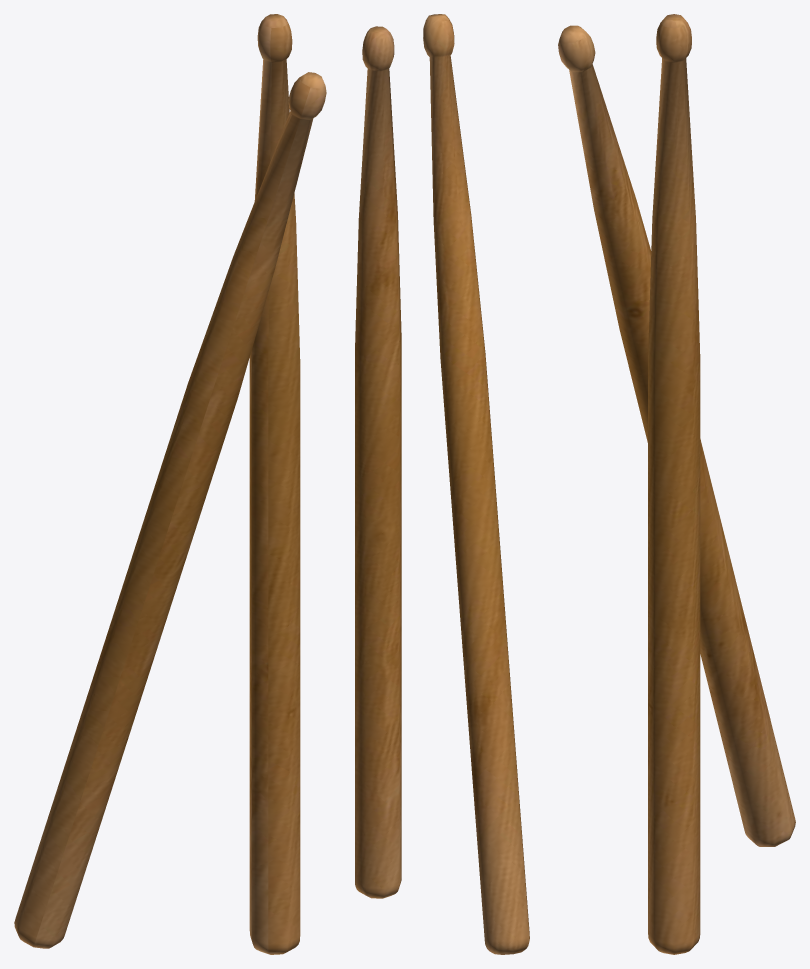
Rendered from drumstick.fbx.
The picture shows the model from 3 angles, left to right: view 1: azimuth 30°, elevation 25°; view 2: azimuth 150°, elevation 25°; view 3: azimuth 270°, elevation 25°; orthographic projection. The views are drawn at different scales.
Visible parts, largest first — view 1: drumstick; view 2: drumstick; view 3: drumstick.
Part boxes in pixels (x1,y1,x2,y2): drumstick: (14, 14, 326, 954); drumstick: (355, 14, 529, 954); drumstick: (558, 14, 795, 954).
Bounding box in the file's own units: 2.53 × 9.68 × 2.24.
